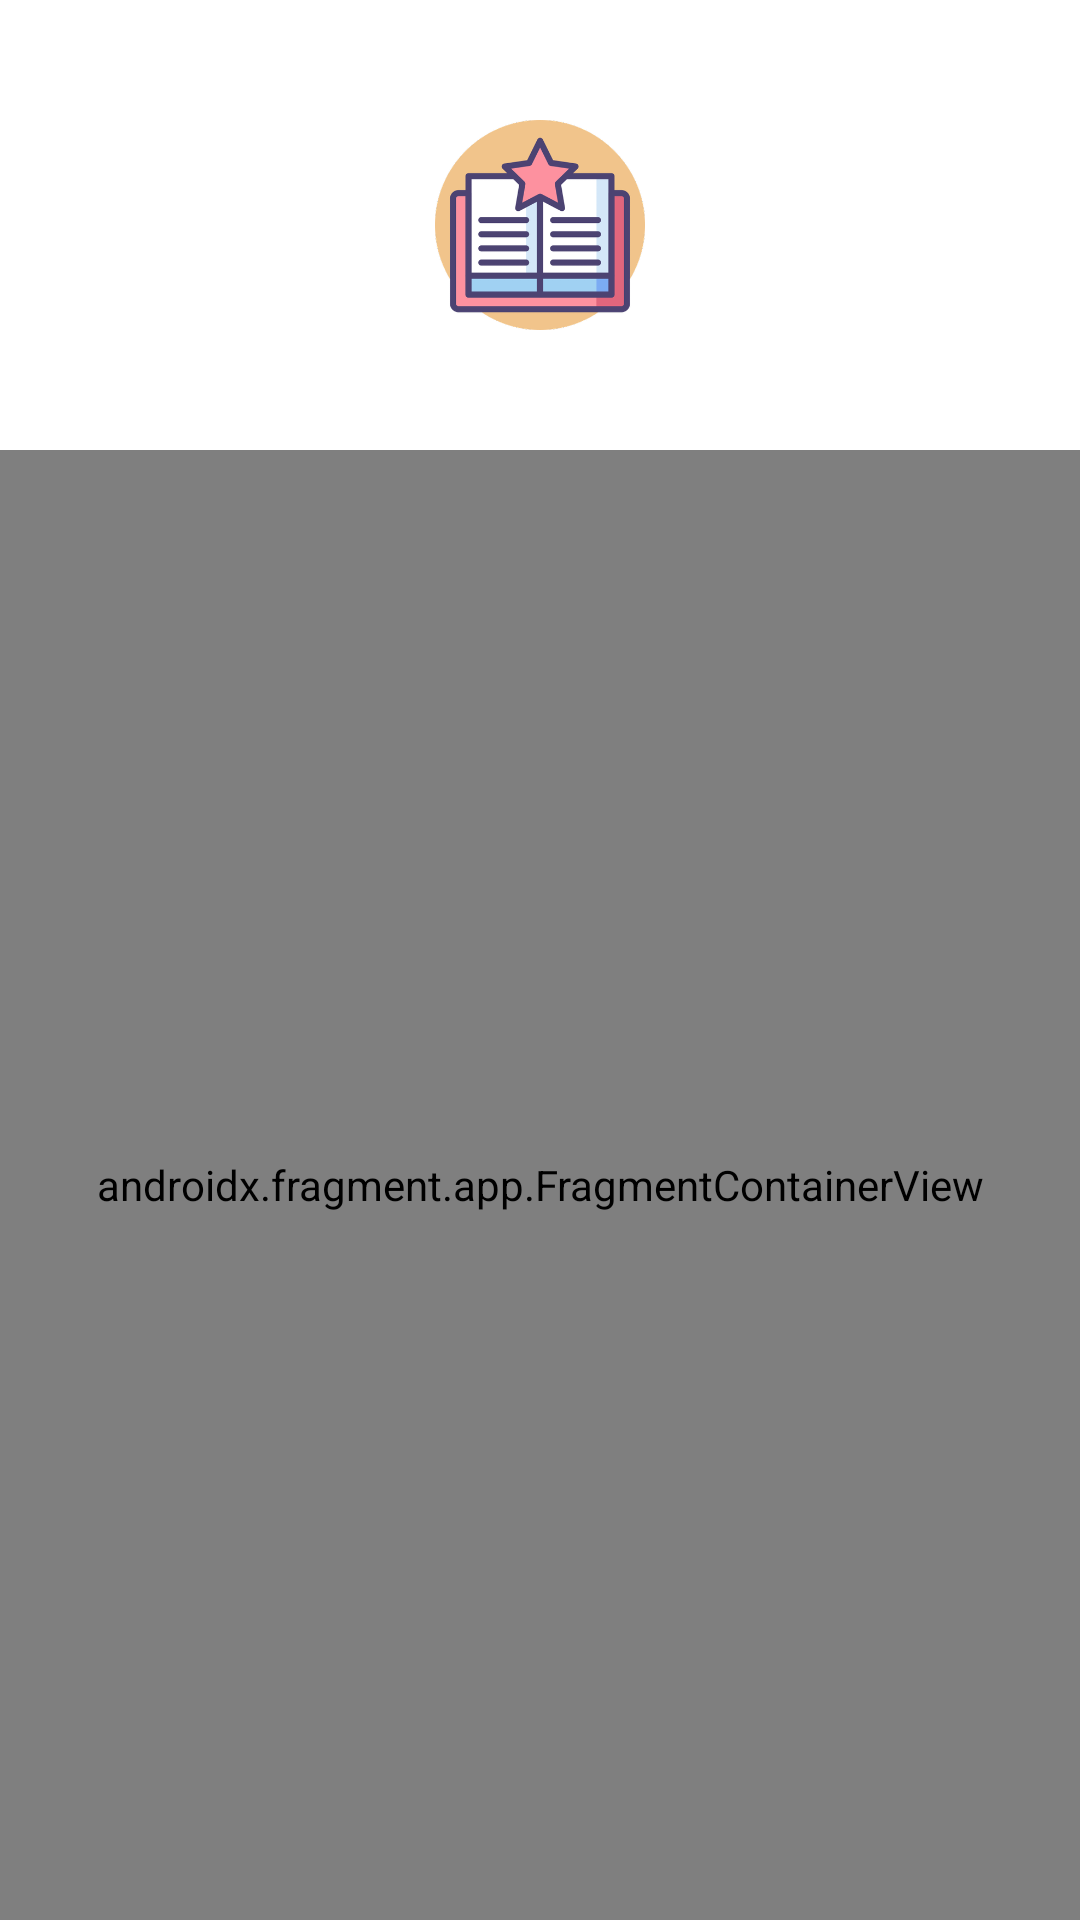

Icons on this 1080×1920 Android screen, each with its box as (x1, y1, x2, y2):
story: (435, 120, 645, 330)
